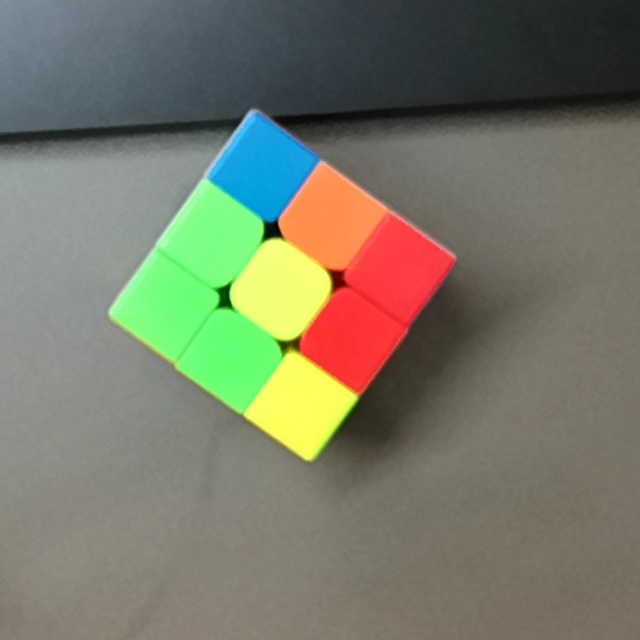tile: (136, 277, 196, 333), (208, 328, 264, 388), (303, 188, 360, 246), (182, 210, 245, 261), (377, 236, 429, 292), (260, 261, 309, 316), (237, 142, 289, 192), (329, 315, 375, 370), (278, 379, 330, 426)
